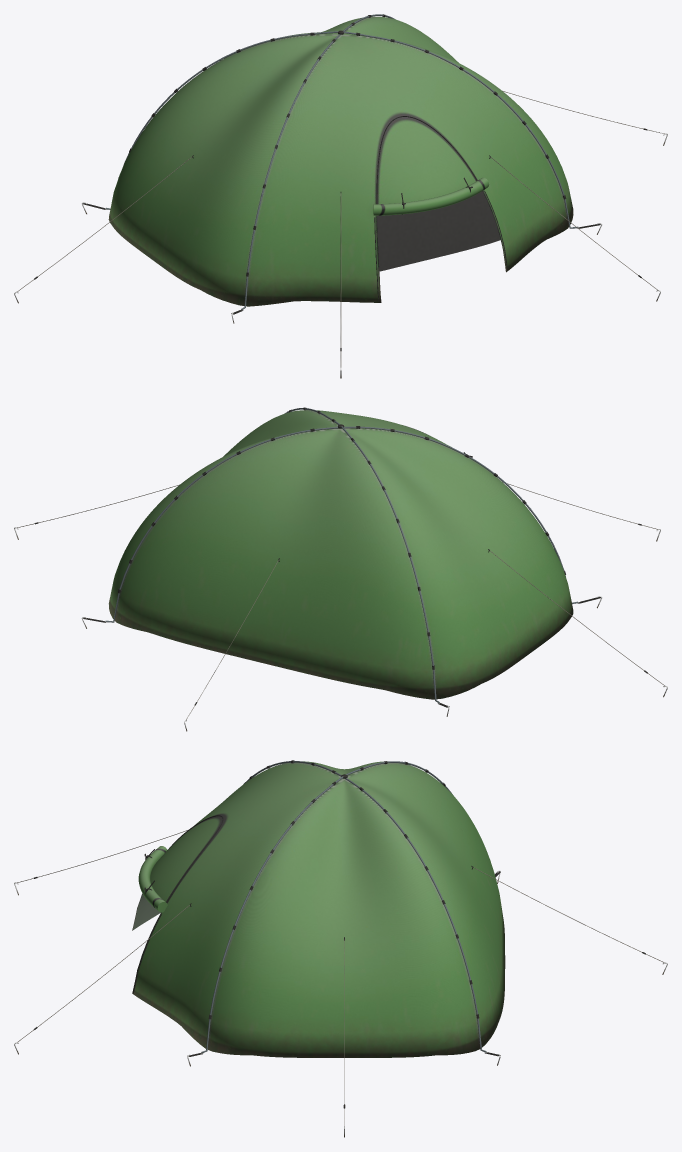
Rendered from camp_tent_dome_green.glb.
3 renders of one model, top to bottom at view 1: azimuth 30°, elevation 25°; view 2: azimuth 150°, elevation 25°; view 3: azimuth 270°, elevation 25°, orthographic. The views are drawn at different scales.
Parts seen in each view (by area): view 1: Tent; view 2: Tent; view 3: Tent.
Part boxes in pixels (bbox=[...]): Tent: bbox=[14, 14, 667, 378]; Tent: bbox=[14, 407, 667, 731]; Tent: bbox=[14, 760, 667, 1137].
Bounding box in the file's own units: 4.2 × 1.19 × 3.52.
1 material, 1 textured.
